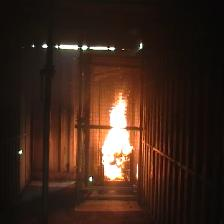fire: (102, 90, 134, 181)
